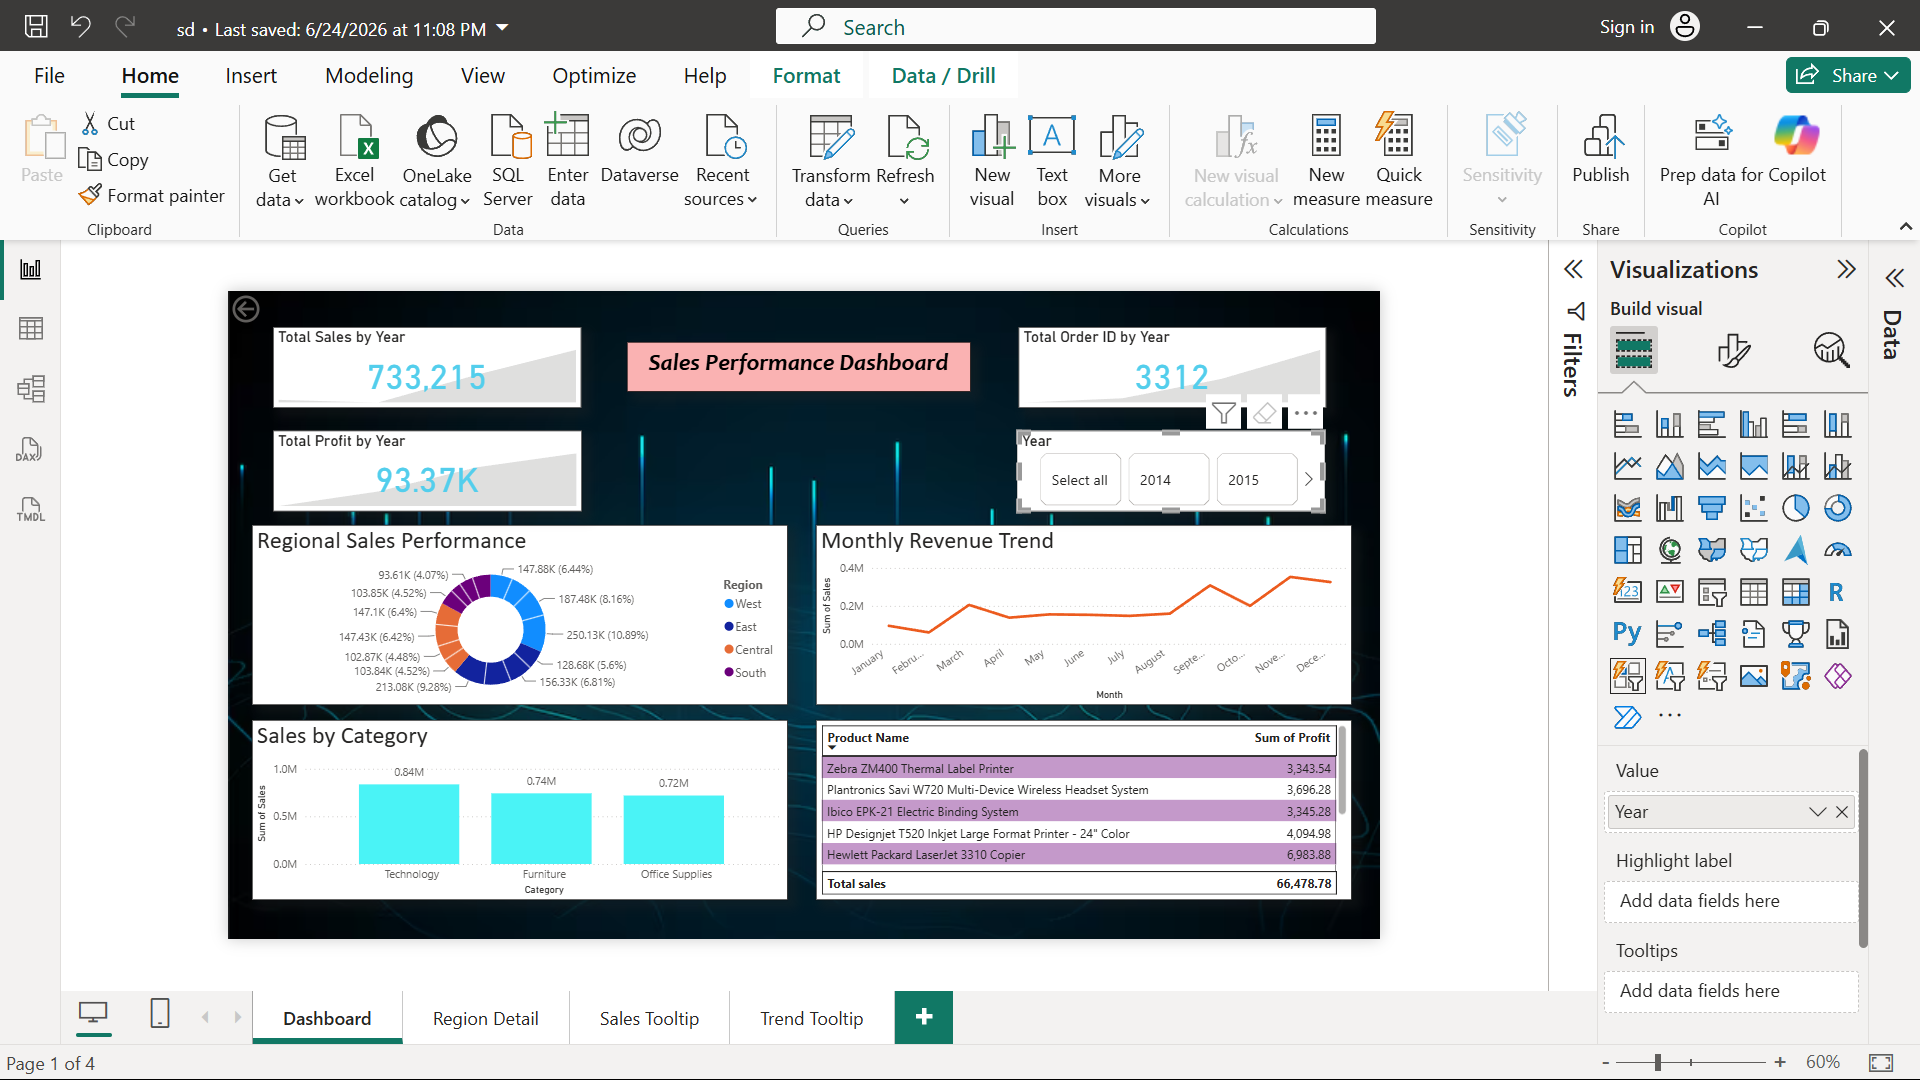

This screenshot's page, from the dashboard's own definition file:
{"tool":"powerbi","page":{"name":"Dashboard","canvas":[1280,720],"ordinal":0},"visuals":[{"type":"lineChart","title":"Monthly Revenue Trend","fields":{"Y":["Sum(Sample - Superstore.Sales)"],"Category":["Sample - Superstore.Order Date.Variation.Date Hierarchy.Month"]},"box":[653,260.6,595.5,200],"z":0},{"type":"columnChart","title":"Sales by Category","fields":{"Y":["Sum(Sample - Superstore.Sales)"],"Category":["Sample - Superstore.Category"]},"box":[27.3,477.3,595.5,200],"z":1000},{"type":"donutChart","title":"Regional Sales Performance","fields":{"Category":["Sample - Superstore.Region"],"Y":["Sum(Sample - Superstore.Sales)"],"Series":["Sample - Superstore.Year"]},"box":[27.3,260.4,595.1,199.9],"z":2000},{"type":"actionButton","box":[0,0,100,40],"z":3000},{"type":"tableEx","fields":{"Values":["Sample - Superstore.Product Name","Sum(Sample - Superstore.Profit)"]},"box":[653,477.3,595.5,200],"z":4000},{"type":"kpi","fields":{"Indicator":["Sum(Sample - Superstore.Sales)"],"TrendLine":["Sample - Superstore.Year"]},"box":[50,40,342.9,90],"z":5000},{"type":"kpi","fields":{"Indicator":["Sum(Sample - Superstore.Profit)"],"TrendLine":["Sample - Superstore.Year"]},"box":[50,155,343.3,90],"z":6000},{"type":"kpi","fields":{"Indicator":["CountNonNull(Sample - Superstore.Order ID)"],"TrendLine":["Sample - Superstore.Year"]},"box":[878.3,40,341.7,90],"z":7000},{"type":"advancedSlicerVisual","fields":{"Values":["Sample - Superstore.Year"]},"box":[876.7,155,341.7,90],"z":8000},{"type":"textbox","box":[443.3,56.7,381.7,55],"z":9000}]}

Visuals, with their boxes on the page's 1280x720 design canvas (x1, y1, x2, y2). These are canvas units, not pixel positions in the 1920x1080 screenshot, which may show the page scaled, cropped or inside an application window:
"Monthly Revenue Trend" lineChart: {"x1": 653, "y1": 261, "x2": 1248, "y2": 461}
"Sales by Category" columnChart: {"x1": 27, "y1": 477, "x2": 623, "y2": 677}
"Regional Sales Performance" donutChart: {"x1": 27, "y1": 260, "x2": 622, "y2": 460}
actionButton: {"x1": 0, "y1": 0, "x2": 100, "y2": 40}
tableEx - Sample - Superstore.Product Name x Sum(Sample - Superstore.Profit): {"x1": 653, "y1": 477, "x2": 1248, "y2": 677}
kpi - Sum(Sample - Superstore.Sales) x Sample - Superstore.Year: {"x1": 50, "y1": 40, "x2": 393, "y2": 130}
kpi - Sum(Sample - Superstore.Profit) x Sample - Superstore.Year: {"x1": 50, "y1": 155, "x2": 393, "y2": 245}
kpi - CountNonNull(Sample - Superstore.Order ID) x Sample - Superstore.Year: {"x1": 878, "y1": 40, "x2": 1220, "y2": 130}
advancedSlicerVisual - Sample - Superstore.Year: {"x1": 877, "y1": 155, "x2": 1218, "y2": 245}
textbox: {"x1": 443, "y1": 57, "x2": 825, "y2": 112}
